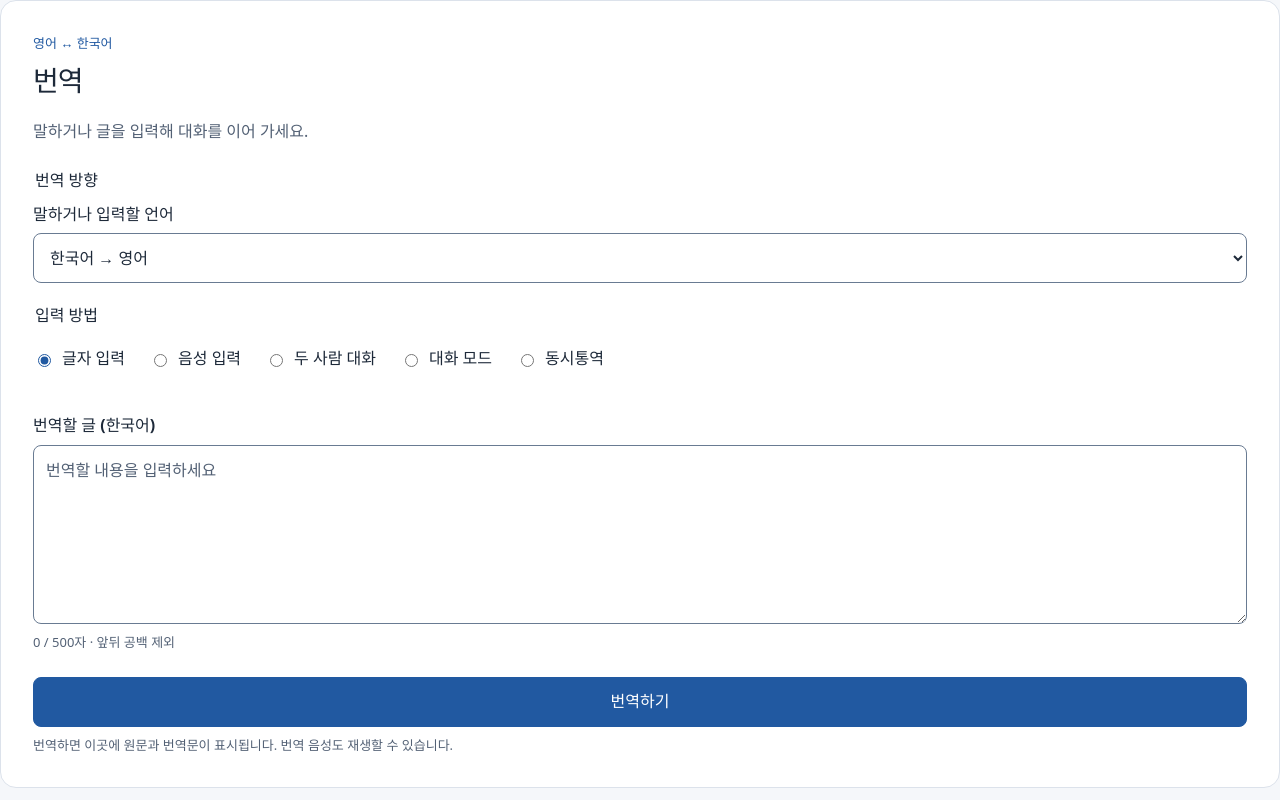
Test: uses only the contract status/detail pair for 413 / Audio file is larger than 10 MB
Type "안녕하세요" into the text box labelled "번역할 글 (한국어)".
click(640, 534); type("안녕하세요")  # box [33,445,1247,624]
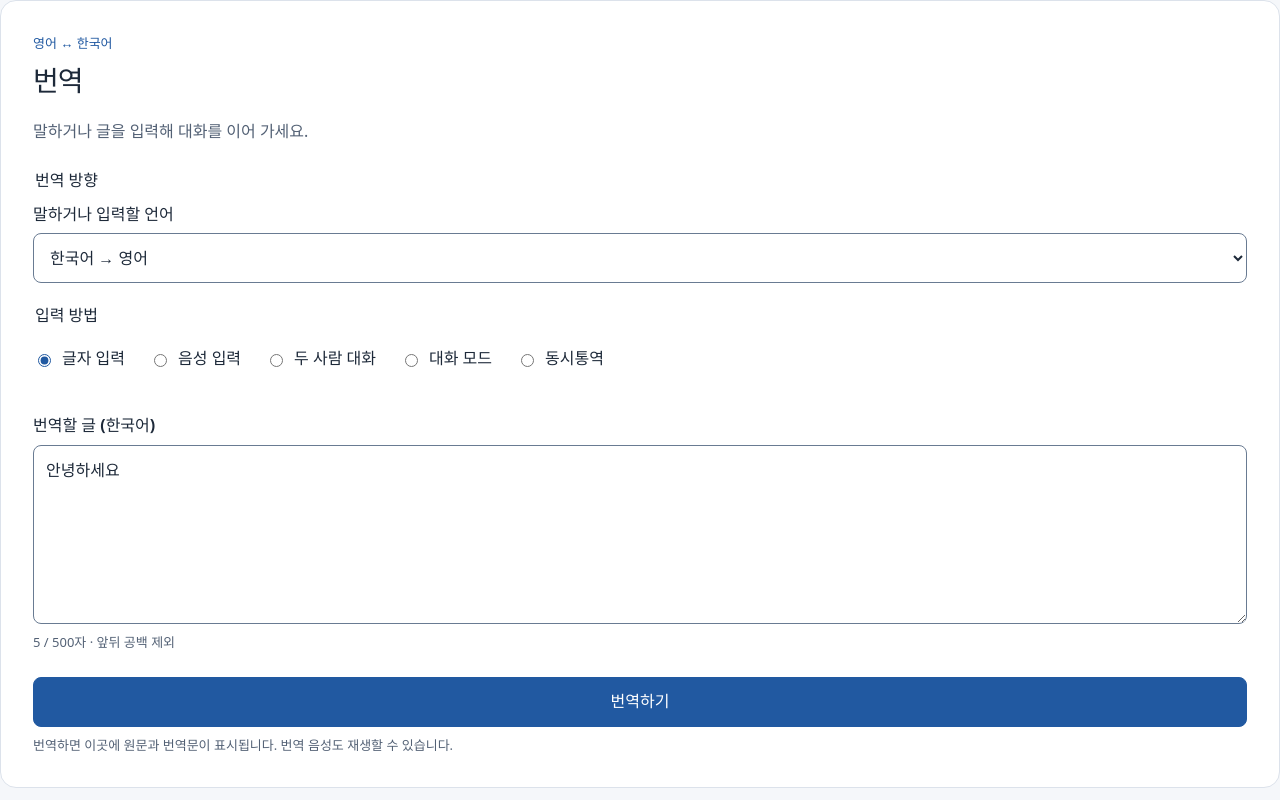
Click the button "번역하기".
click(640, 702)  # box [33,677,1247,726]
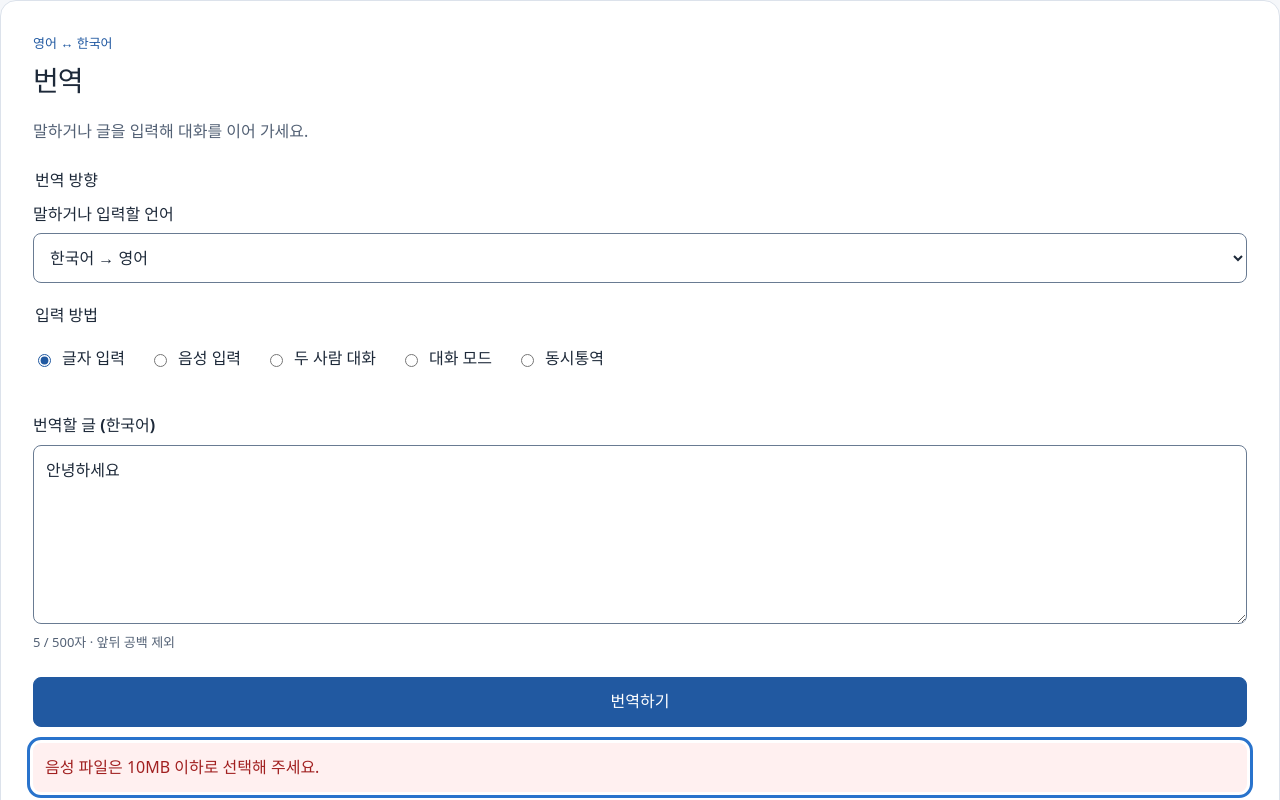
expect the message shows "10MB 이하": met, box [45,756,319,778]
